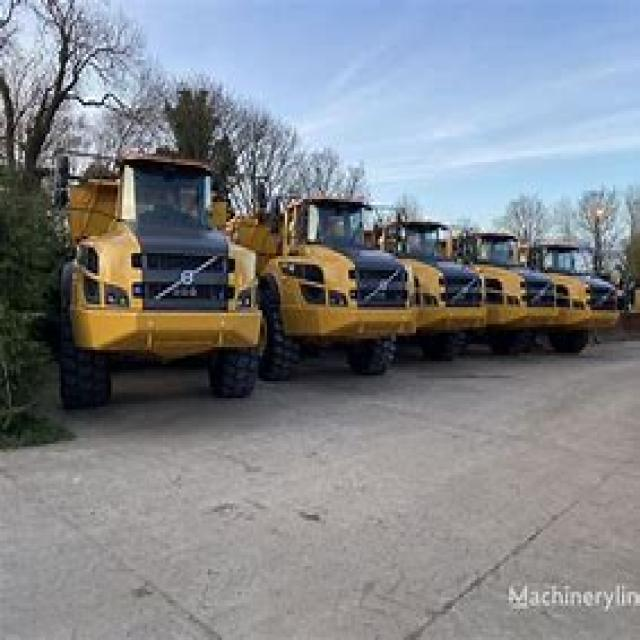dump_truck: (36, 139, 262, 404), (269, 159, 414, 401), (405, 185, 484, 370), (477, 211, 559, 364), (550, 228, 628, 356)
